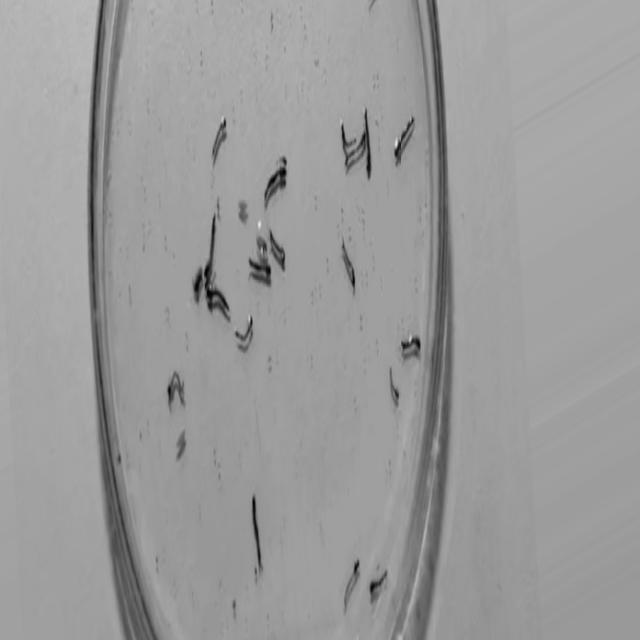larvas: (392, 119, 413, 158), (251, 499, 262, 566), (204, 216, 216, 277), (264, 169, 286, 198), (345, 135, 366, 165), (345, 560, 359, 605), (363, 111, 372, 176), (343, 240, 355, 285), (235, 317, 258, 340), (212, 119, 227, 154), (249, 256, 270, 278), (271, 232, 285, 264), (205, 290, 229, 308), (167, 373, 184, 398), (370, 571, 386, 595), (341, 123, 356, 148), (401, 336, 420, 350), (390, 369, 399, 398)
